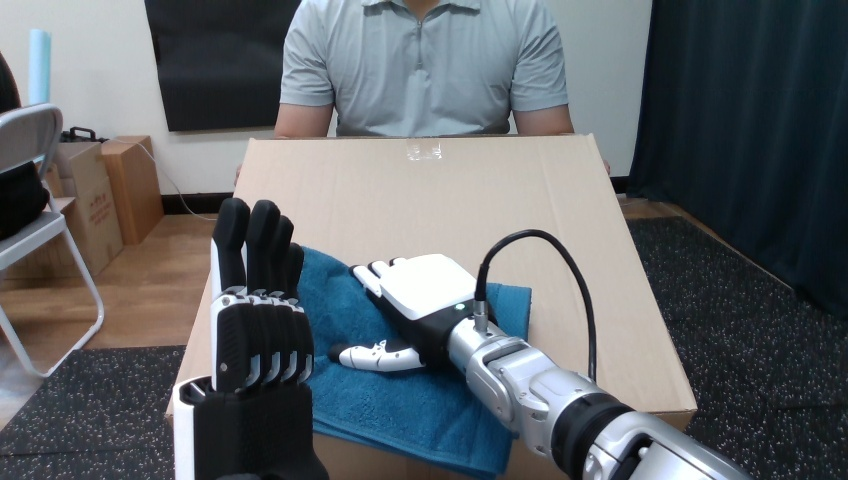left robot hand: (332, 229, 749, 479), (172, 197, 327, 478), (485, 236, 589, 376)
